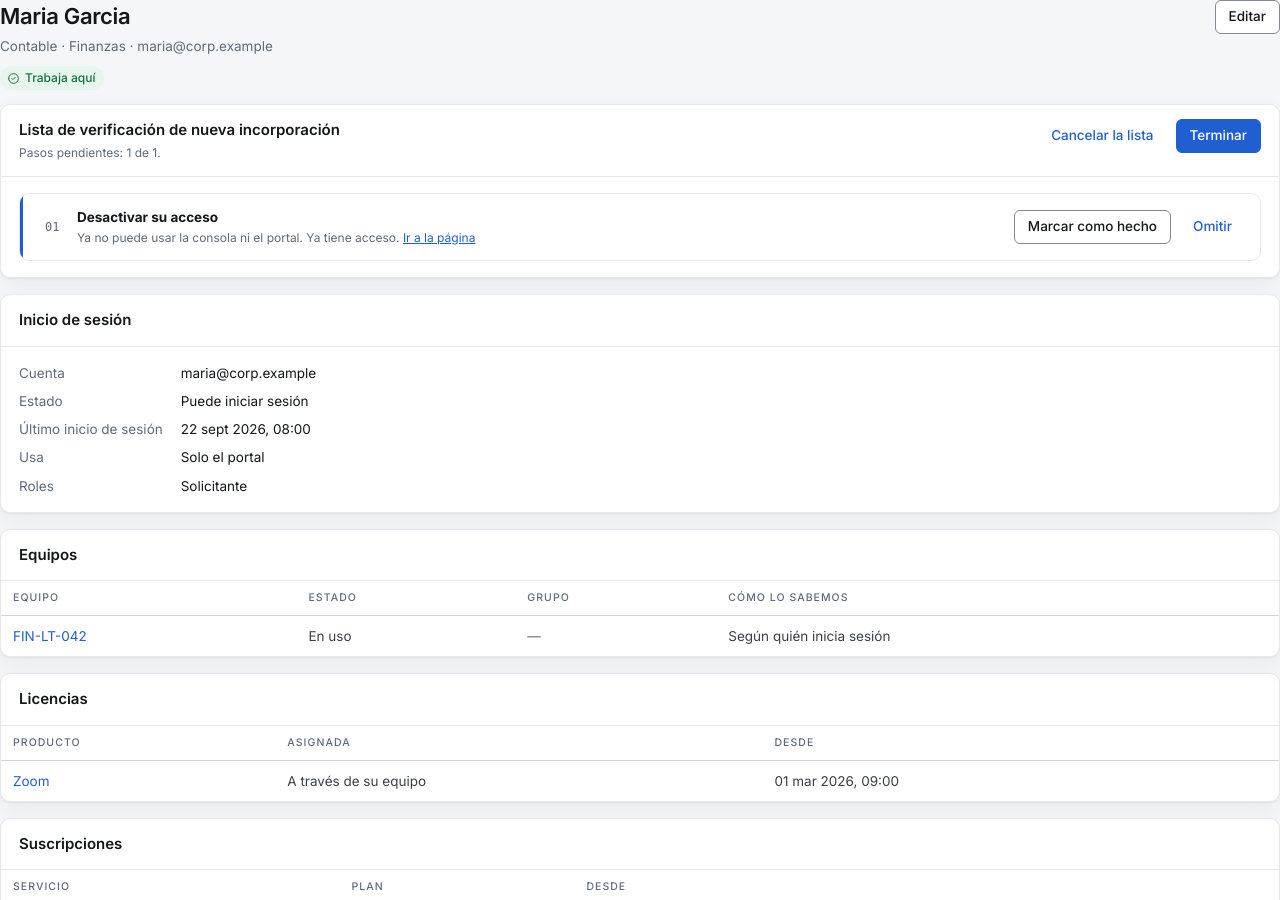
the person page in Spanish › asks to confirm a destructive step, and finishes a starter checklist
Expected: the heading "Lista de verificación de nueva incorporación" is shown, [19,119,340,142]
Step 1. Click the button "Marcar como hecho" → [1092, 227], box [1014,210,1171,244]
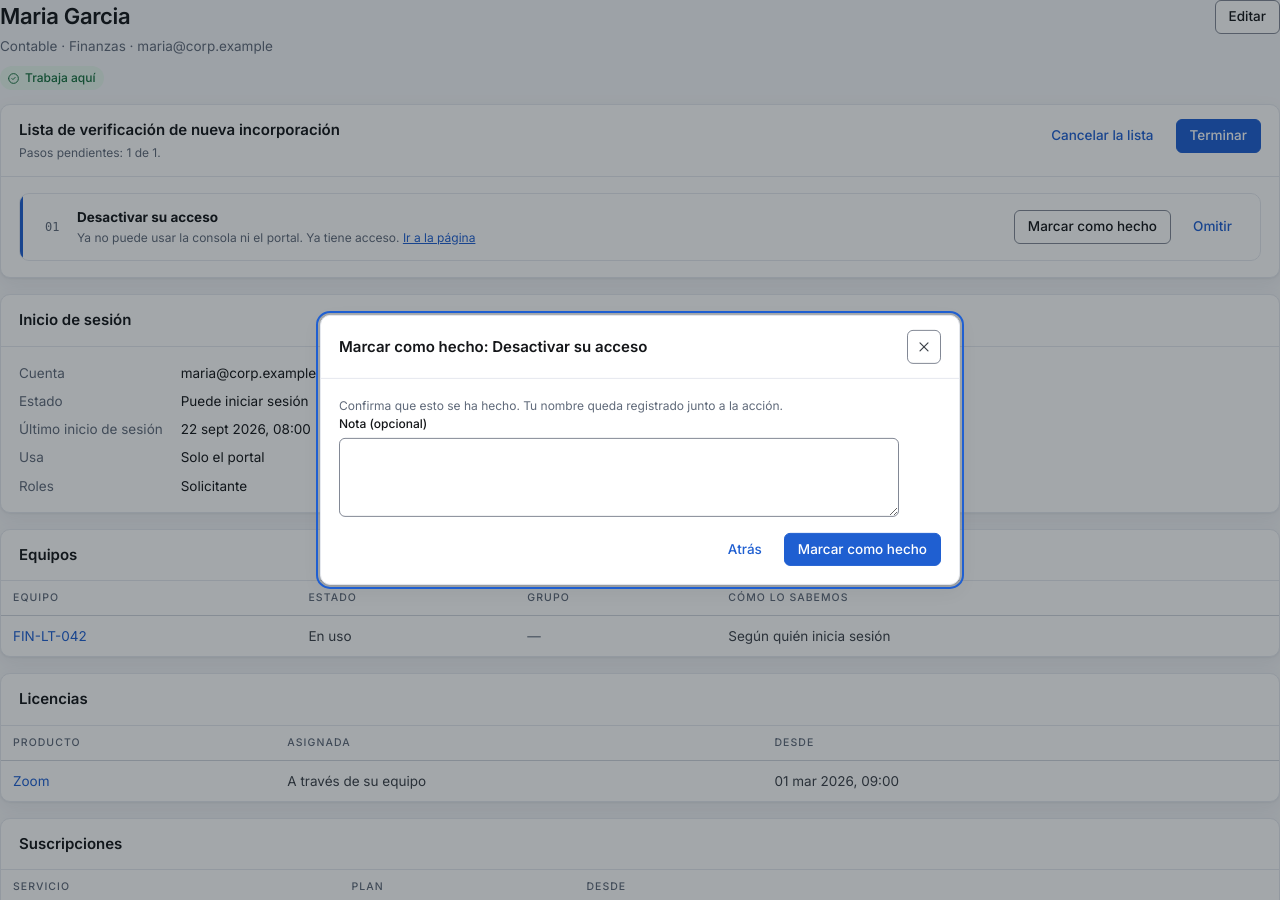
Expected: the text "Confirma que esto se ha hecho. Tu nombre queda registrado junto a la acción." is shown, [339,398,783,413]
Expected: the text "Nota (opcional)" is shown, [339,416,427,431]
Step 2. Click the button "Atrás" → [745, 549], box [714,533,776,566]
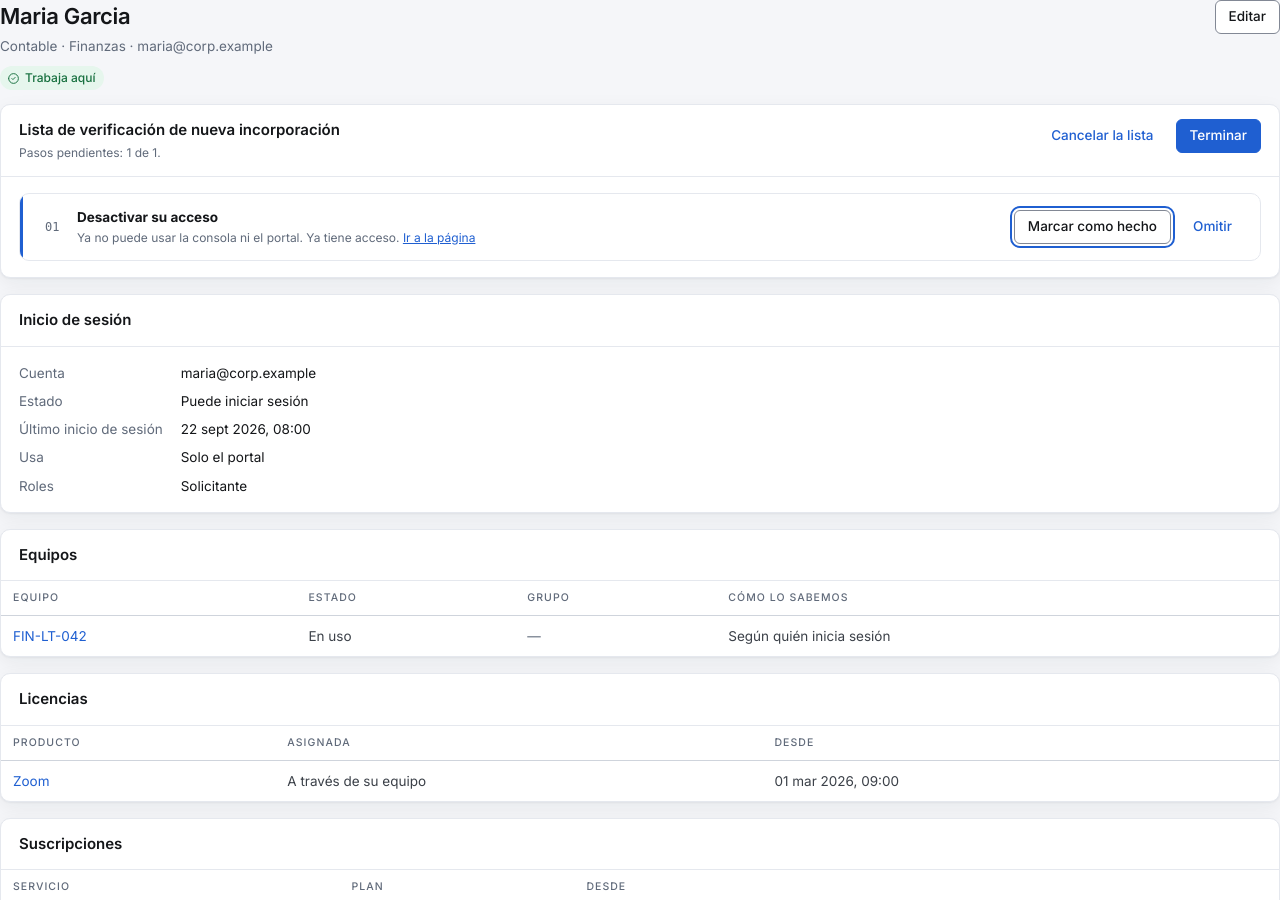
Step 3. Click the button "Terminar" → [1218, 136], box [1176,119,1261,153]
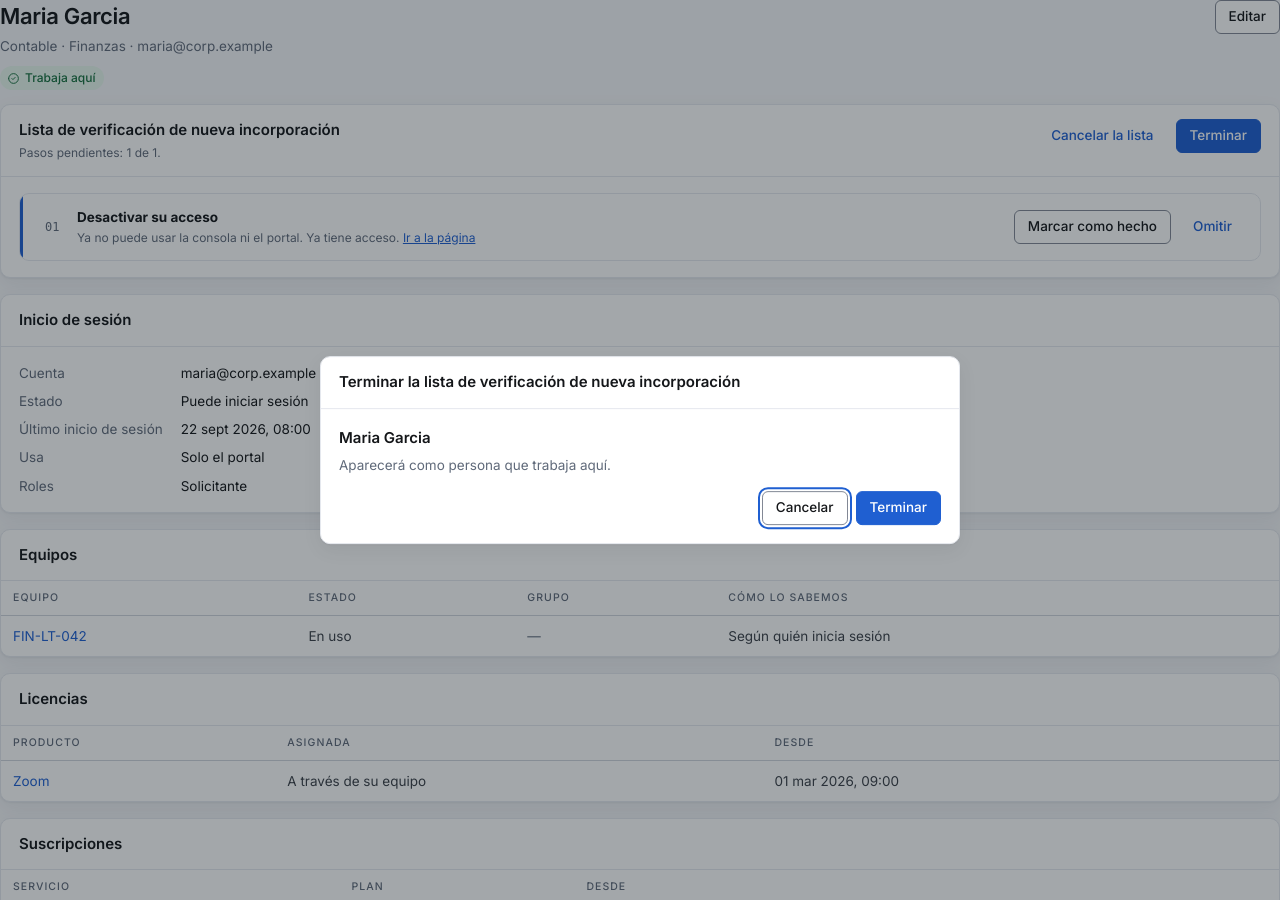
Expected: the heading "Terminar la lista de verificación de nueva incorporación" is shown, [339,371,740,394]
Expected: the text "Aparecerá como persona que trabaja aquí." is shown, [339,457,611,473]
